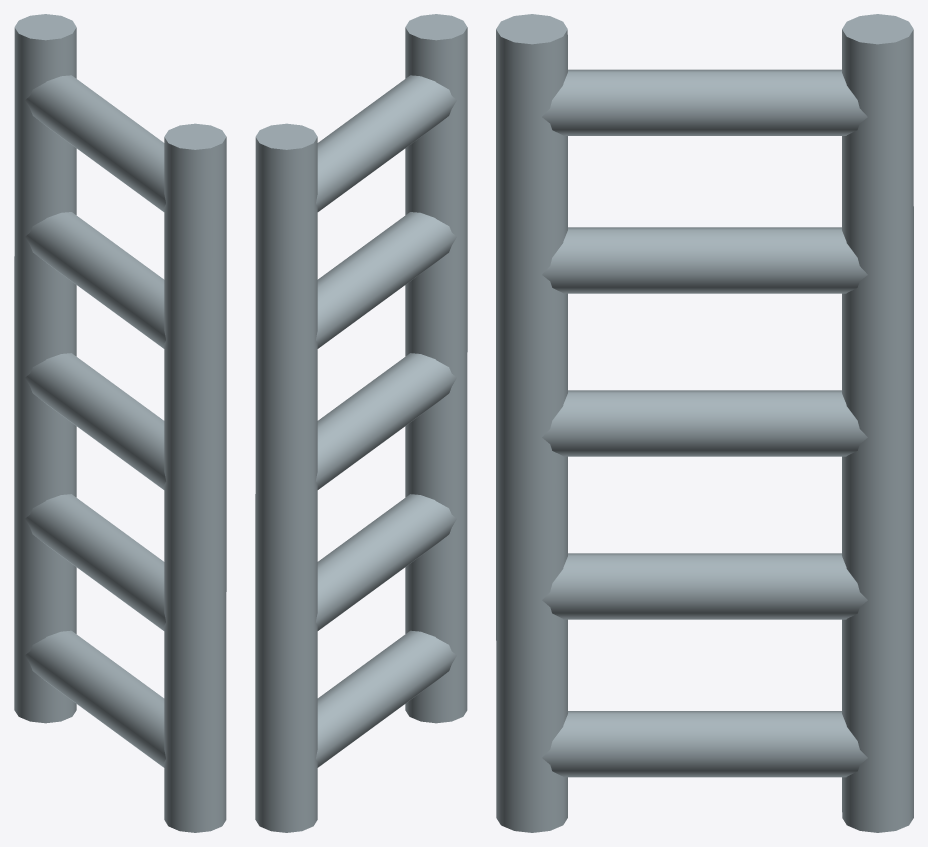
The model's file is barrierLadder-col.glb.
3 renders of one model, left to right at view 1: azimuth 30°, elevation 25°; view 2: azimuth 150°, elevation 25°; view 3: azimuth 270°, elevation 25°, orthographic. The views are drawn at different scales.
Visible parts, largest first — view 1: barrierLadder-col; view 2: barrierLadder-col; view 3: barrierLadder-col.
Part boxes in pixels (left/top/right/bottom): barrierLadder-col: left=14, top=14, right=226, bottom=832; barrierLadder-col: left=255, top=14, right=467, bottom=832; barrierLadder-col: left=496, top=14, right=913, bottom=832.
Bounding box in the file's own units: 0.165 × 2 × 0.9605.
